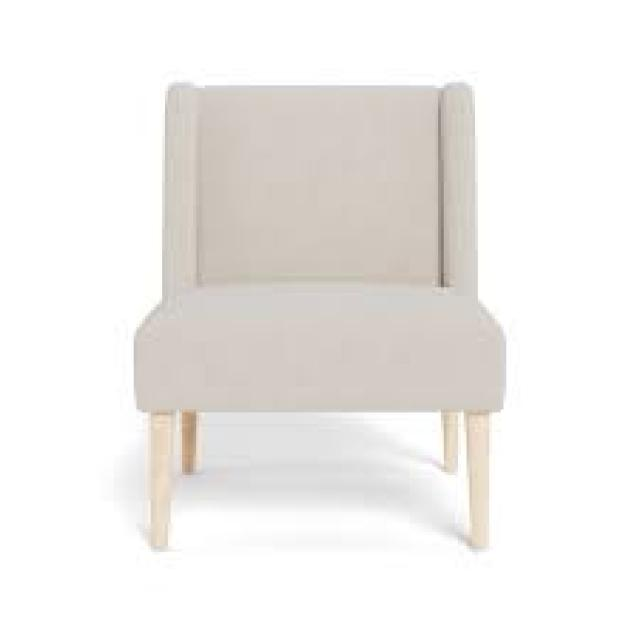chair: (90, 62, 565, 585)
